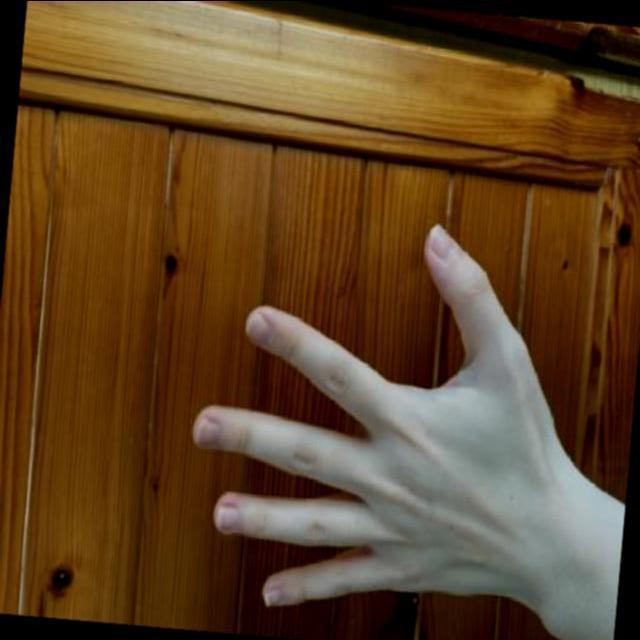hand: (152, 186, 623, 640)
